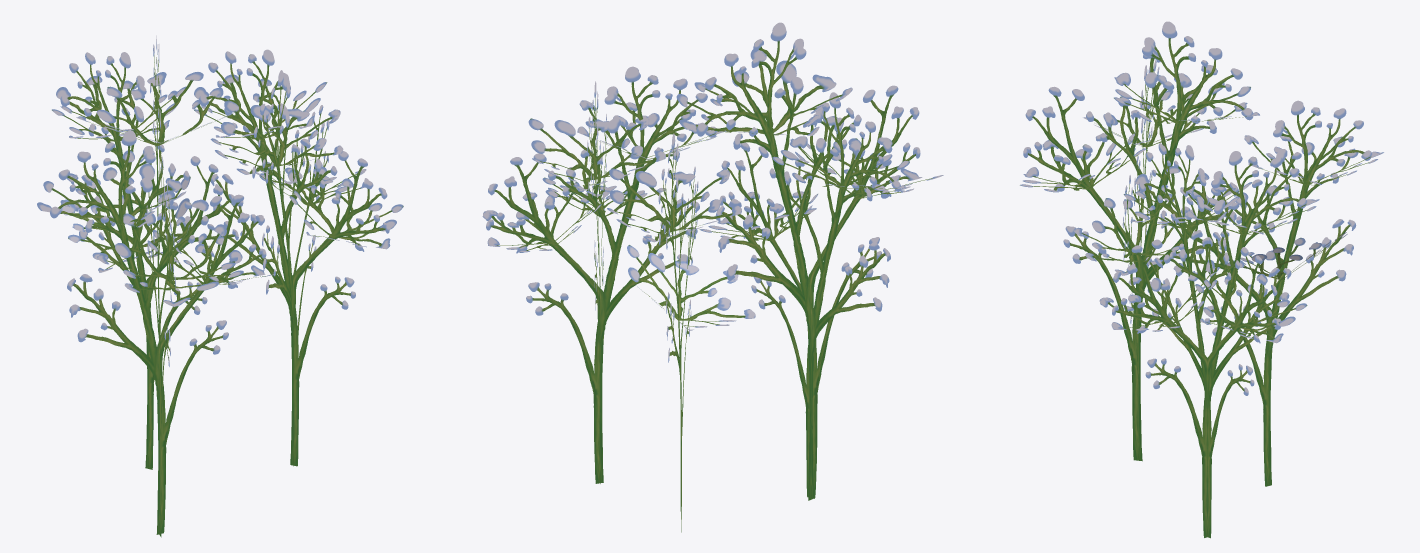
File: MEADOW_SM_Flower_09_03.gltf
3 views of the same model, side by side, from view 1: azimuth 30°, elevation 25°; view 2: azimuth 150°, elevation 25°; view 3: azimuth 270°, elevation 25° (orthographic). The views are drawn at different scales.
Visible parts, largest first — view 1: SM_Flower_09_03_LOD0; view 2: SM_Flower_09_03_LOD0; view 3: SM_Flower_09_03_LOD0.
Boxes of the visible parts, box(x1,y1,x2,y2) form: SM_Flower_09_03_LOD0: box(37, 35, 403, 537); SM_Flower_09_03_LOD0: box(482, 22, 943, 532); SM_Flower_09_03_LOD0: box(1020, 21, 1383, 538).
Size of the model in its own units: 0.7547 by 0.8699 by 0.7318.
1 material, 1 textured.
